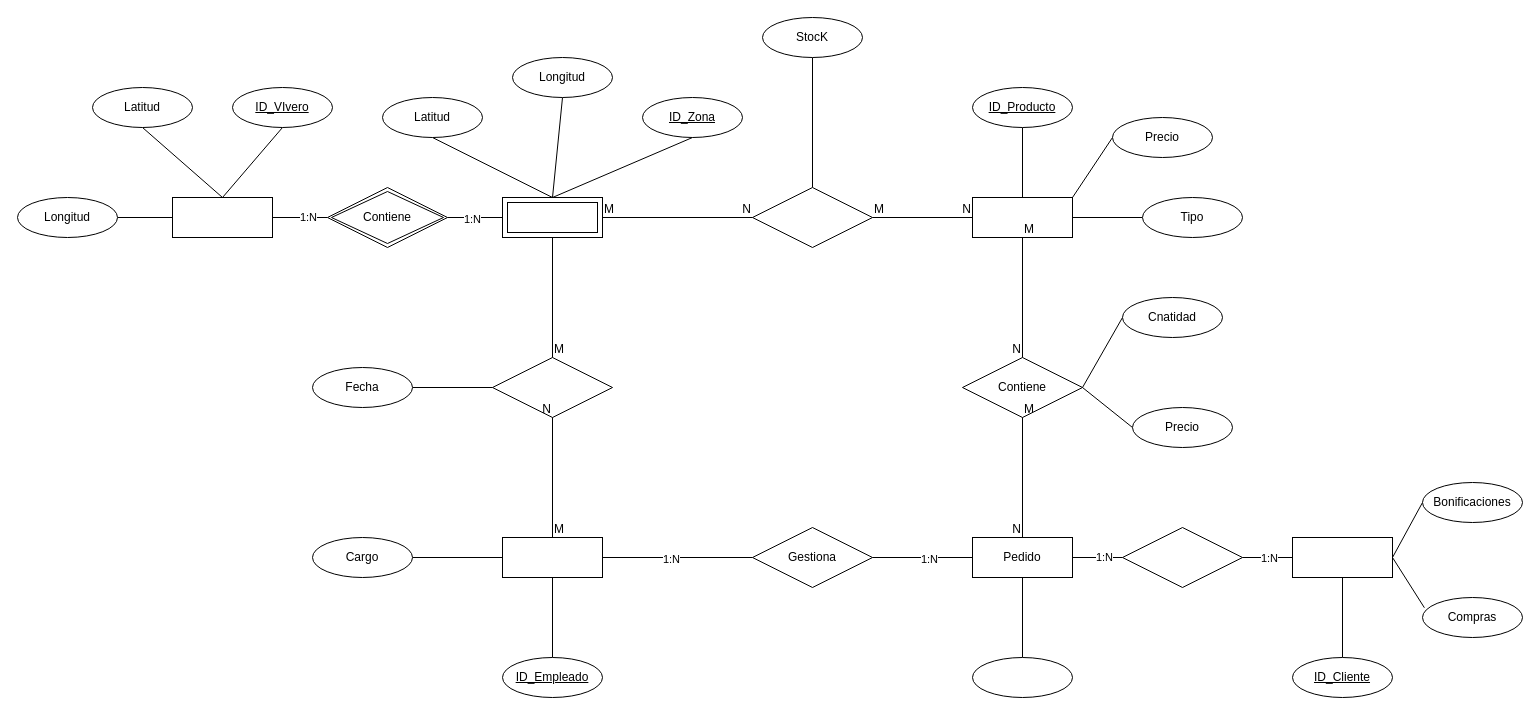
Image size: 1540x715. Some labels were removed from this diagram. The box of each missing label's shape, as (x1, y1, x2, y2) in pixels:
Asignados: (492, 356, 612, 418)
Cliente: (1292, 536, 1392, 578)
Empleado: (502, 536, 602, 578)
ID_Pedido: (972, 656, 1072, 698)
Producto: (972, 196, 1072, 238)
Realiza: (1122, 526, 1242, 588)
Tiene: (752, 186, 872, 248)
Vivero: (172, 196, 272, 238)
Zona: (502, 196, 602, 238)
